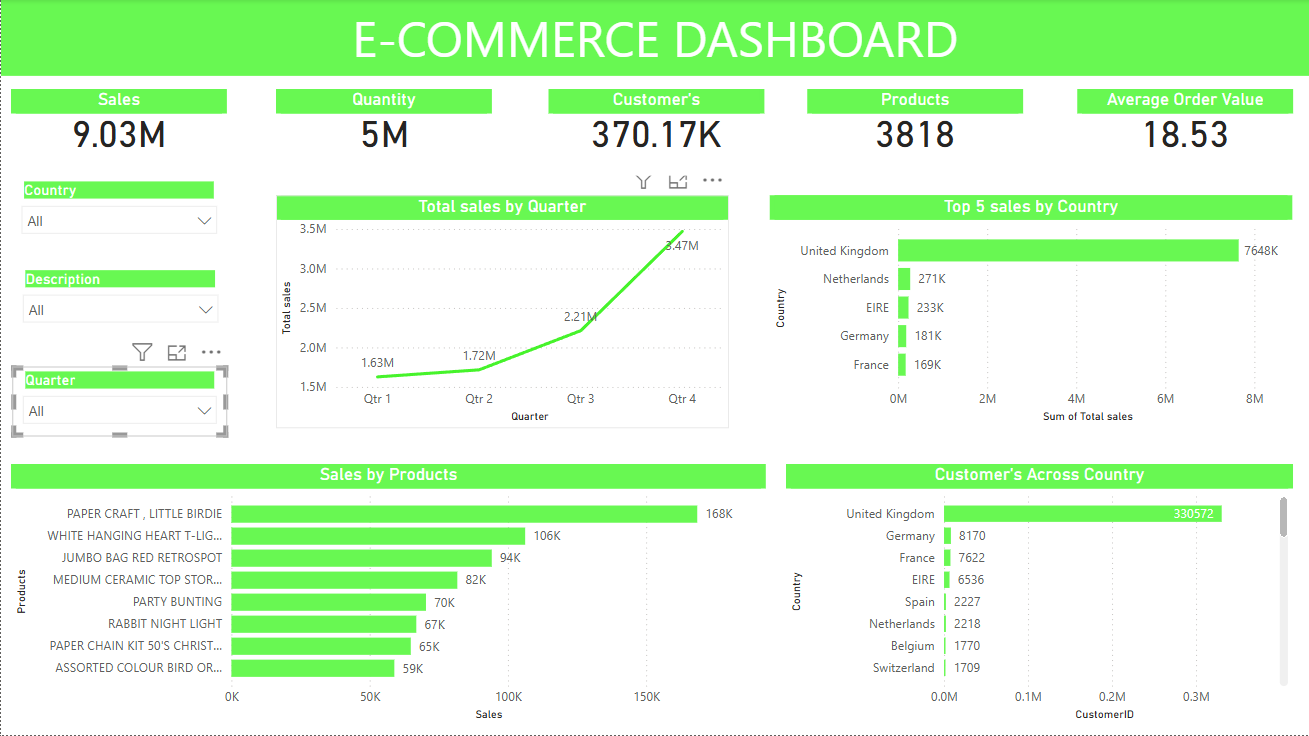

The page's visual inventory and layout, read from the dashboard file:
{"tool":"powerbi","page":{"name":"Page 1","canvas":[1280,720],"ordinal":0},"visuals":[{"type":"textbox","box":[0,0,1280,75],"z":0},{"type":"lineChart","fields":{"Y":["Sum(Ecommerce (2).Total sales)"],"Category":["Ecommerce (2).InvoiceDate.Variation.Date Hierarchy.Quarter"]},"box":[268.8,192.5,442.5,227.5],"z":1000},{"type":"card","title":"Sales","fields":{"Values":["Sum(Ecommerce (2).Total sales)"]},"box":[10,87.5,211.2,85],"z":2000},{"type":"card","title":"Quantity","fields":{"Values":["Sum(Ecommerce (2).Quantity)"]},"box":[268.8,87.5,211.2,85],"z":3000},{"type":"clusteredBarChart","title":"Top 5 sales by Country","fields":{"Category":["Ecommerce (2).Country"],"Y":["Sum(Ecommerce (2).Total sales)"]},"box":[752.5,192.5,511.2,227.5],"z":4000},{"type":"clusteredBarChart","fields":{"Category":["Ecommerce (2).Description"],"Y":["Sum(Ecommerce (2).Total sales)"]},"box":[10,455,738.8,256.2],"z":5000},{"type":"card","title":"Customer''s","fields":{"Values":["CountNonNull(Ecommerce (2).CustomerID)"]},"box":[535,87.5,211.2,85],"z":6000},{"type":"card","title":"Products","fields":{"Values":["Count(Ecommerce (2).Description)"]},"box":[788.8,87.5,211.2,85],"z":7000},{"type":"card","title":"Average Order Value","fields":{"Values":["Ecommerce (2).Average Order Value"]},"box":[1052.5,87.5,211.2,85],"z":8000},{"type":"clusteredBarChart","title":"Customer''s Across Country","fields":{"Category":["Ecommerce (2).Country"],"Y":["CountNonNull(Ecommerce (2).CustomerID)"]},"box":[767.5,455,496.2,256.2],"z":8001},{"type":"slicer","fields":{"Values":["Ecommerce (2).Country"]},"box":[10,192.5,211.2,75],"z":8002},{"type":"slicer","fields":{"Values":["Ecommerce (2).Description"]},"box":[10,306.2,211.2,71.2],"z":8003}]}

Visuals, with their boxes in screenshot pixels (x1, y1, x2, y2), scaled from the page's 1280x720 canvas onto the 1309x736 screenshot:
textbox: (0, 0, 1308, 77)
lineChart - Sum(Ecommerce (2).Total sales) x Ecommerce (2).InvoiceDate.Variation.Date Hierarchy.Quarter: (275, 197, 727, 429)
"Sales" card: (10, 89, 226, 176)
"Quantity" card: (275, 89, 491, 176)
"Top 5 sales by Country" clusteredBarChart: (770, 197, 1292, 429)
clusteredBarChart - Ecommerce (2).Description x Sum(Ecommerce (2).Total sales): (10, 465, 766, 727)
"Customer''s" card: (547, 89, 763, 176)
"Products" card: (807, 89, 1023, 176)
"Average Order Value" card: (1076, 89, 1292, 176)
"Customer''s Across Country" clusteredBarChart: (785, 465, 1292, 727)
slicer - Ecommerce (2).Country: (10, 197, 226, 273)
slicer - Ecommerce (2).Description: (10, 313, 226, 386)
